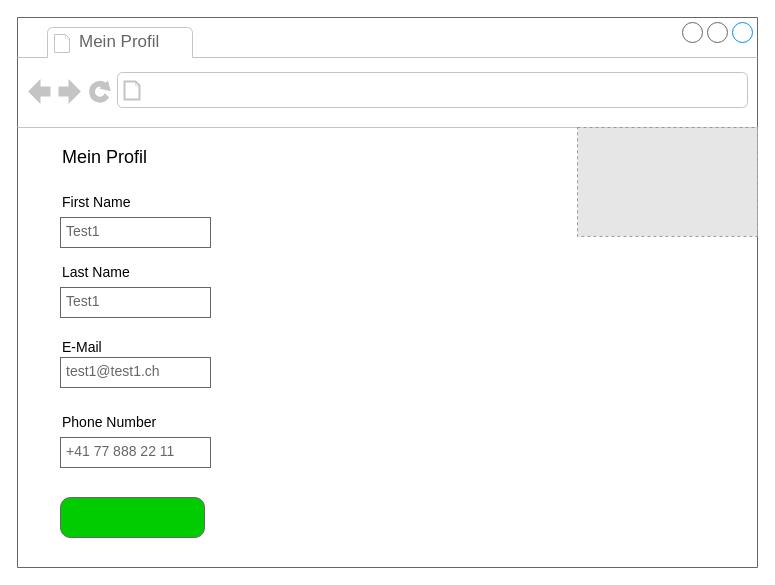
Image size: 775x585. Some labels were removed from this diagram. Grey dashed boxes stand in for pictures. The shapes that lost their labels are listed below. From the top down, each one's centre as x and y in pixels, then its label:
(272,90): https://am-ui.azurewebsites.net/profile
(132,517): Save
